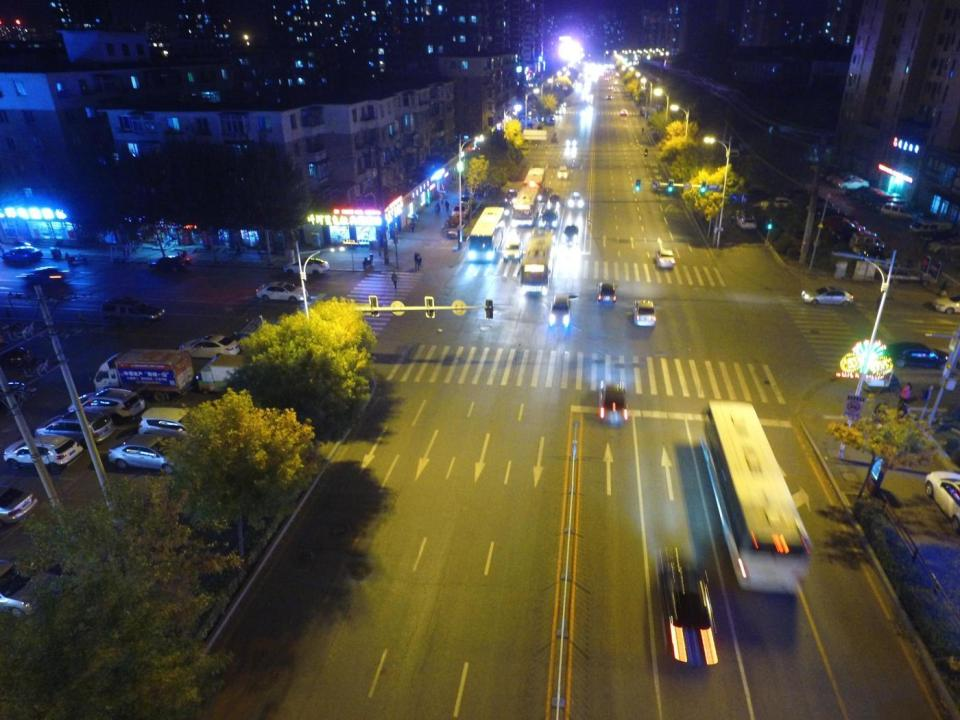bus: (700, 400, 812, 596), (522, 222, 551, 296), (514, 165, 546, 228), (471, 205, 504, 263)
car: (652, 552, 720, 675), (0, 559, 69, 618), (65, 376, 148, 420), (6, 432, 88, 474), (109, 432, 184, 476), (37, 404, 115, 440), (592, 373, 634, 427), (97, 293, 165, 326), (878, 340, 951, 370), (141, 406, 202, 440), (180, 332, 241, 356), (254, 278, 310, 304), (798, 284, 857, 306), (149, 255, 202, 278), (285, 257, 331, 278), (628, 298, 658, 330), (23, 265, 69, 284), (0, 244, 42, 263), (654, 242, 678, 275), (552, 296, 574, 330), (595, 277, 617, 309), (832, 228, 870, 246), (440, 216, 466, 242), (502, 239, 525, 264), (734, 209, 758, 232), (869, 194, 905, 209), (919, 229, 954, 244), (823, 215, 858, 230), (930, 237, 960, 254), (716, 138, 738, 160), (762, 197, 794, 211), (814, 206, 845, 220), (828, 222, 861, 235), (563, 224, 580, 249), (857, 193, 898, 203), (838, 176, 869, 189), (806, 200, 834, 213), (566, 190, 584, 210), (826, 170, 856, 182), (846, 189, 886, 198), (540, 208, 556, 230), (451, 201, 471, 218), (498, 198, 514, 218), (832, 176, 862, 186), (844, 186, 877, 195), (505, 186, 518, 204), (547, 193, 560, 210), (556, 164, 569, 180), (617, 106, 630, 121), (564, 137, 578, 149), (549, 113, 557, 126), (461, 194, 470, 204), (606, 94, 612, 102), (613, 87, 621, 93), (612, 80, 620, 85), (607, 86, 614, 91), (615, 71, 620, 77), (609, 75, 614, 79), (606, 77, 610, 81), (604, 70, 608, 74), (609, 69, 612, 72)
truck: (94, 347, 191, 398)
van: (880, 202, 920, 220), (852, 232, 885, 251), (910, 219, 941, 232)
